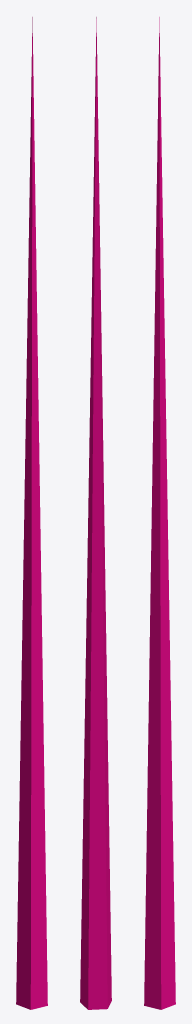
The model's file is laser.glb.
The picture shows the model from 3 angles, left to right: view 1: azimuth 30°, elevation 25°; view 2: azimuth 150°, elevation 25°; view 3: azimuth 330°, elevation 25°; orthographic projection.
Visible parts, largest first — view 1: Cylinder; view 2: Cylinder; view 3: Cylinder.
Part boxes in pixels (x1,y1,x2,y2): Cylinder: [16, 17, 47, 1009]; Cylinder: [80, 17, 111, 1009]; Cylinder: [144, 17, 175, 1009].
Bounding box in the file's own units: 0.4185 × 14.31 × 0.398.
